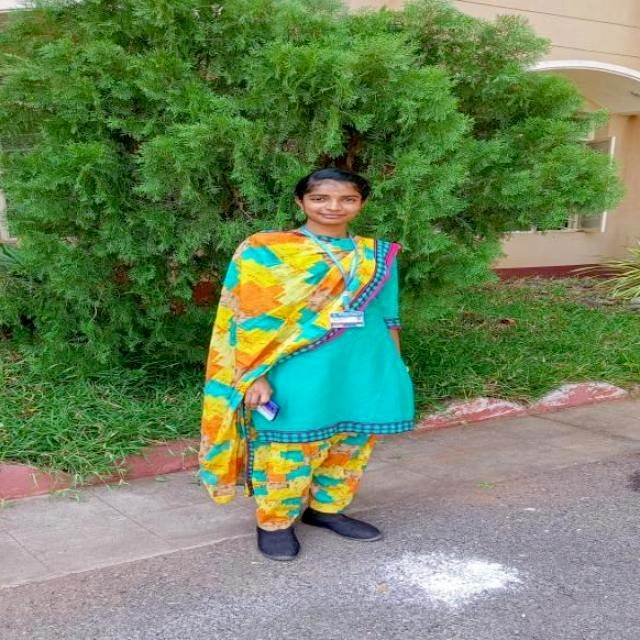ID_card: (311, 230, 370, 328)
